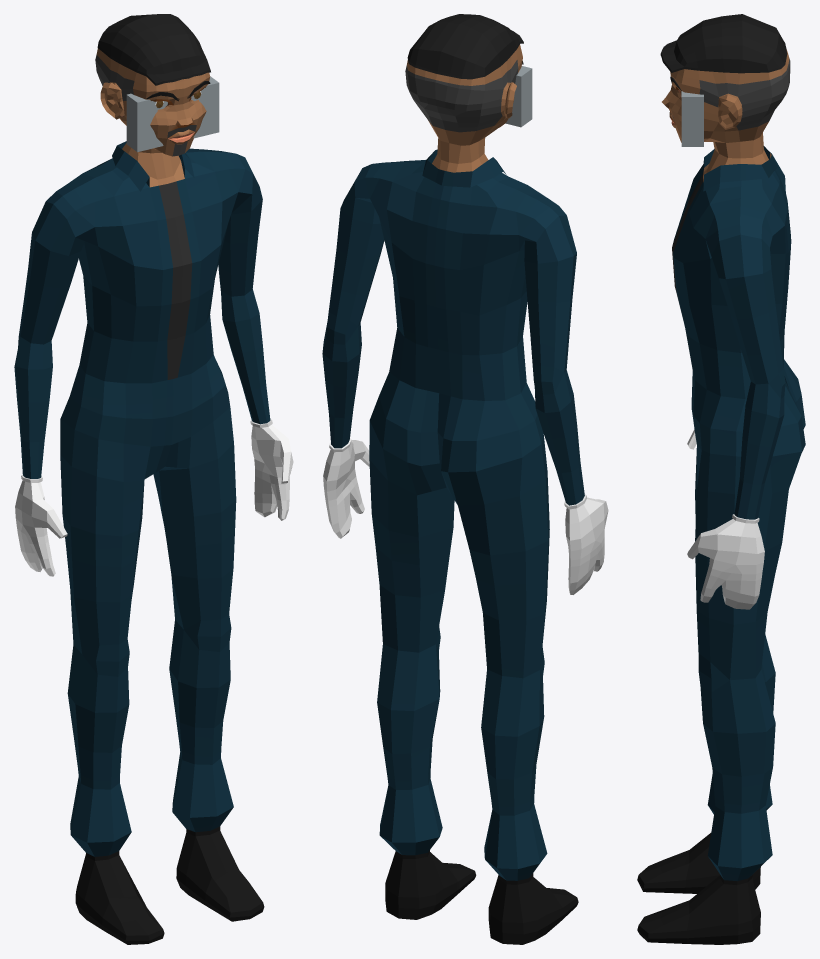
File: Mechanic_Stand_Mask.fbx
The picture shows the model from 3 angles, left to right: view 1: azimuth 30°, elevation 25°; view 2: azimuth 150°, elevation 25°; view 3: azimuth 270°, elevation 25°; orthographic projection. The views are drawn at different scales.
Parts seen in each view (by area): view 1: Mechanic_Stand_Mask; view 2: Mechanic_Stand_Mask; view 3: Mechanic_Stand_Mask.
Part boxes in pixels (x1,y1,x2,y2): Mechanic_Stand_Mask: (14, 14, 293, 944); Mechanic_Stand_Mask: (322, 14, 608, 944); Mechanic_Stand_Mask: (637, 14, 805, 944).
Size of the model in its own units: 0.2997 by 0.9751 by 0.1677.
